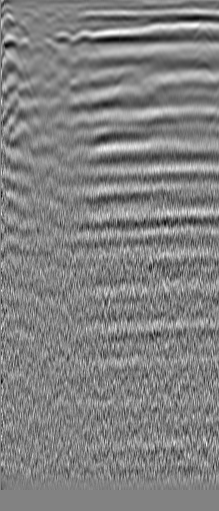오수: (9, 20, 29, 40)
우수: (167, 18, 196, 46)
